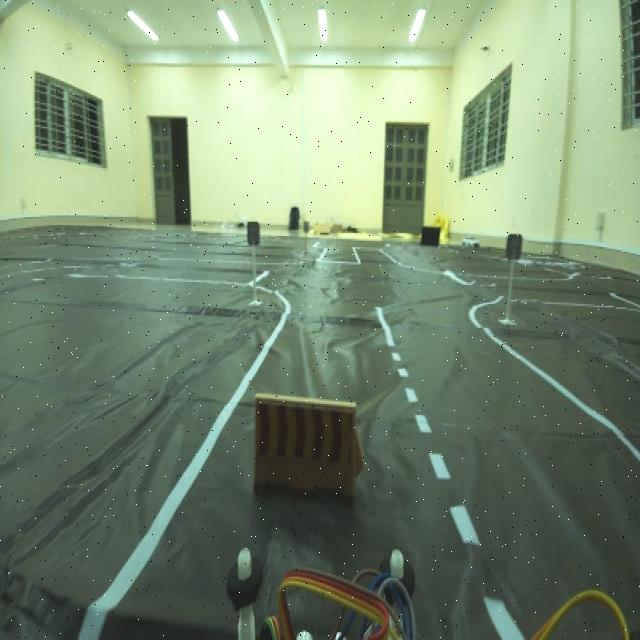roadblock: (252, 385, 370, 507)
